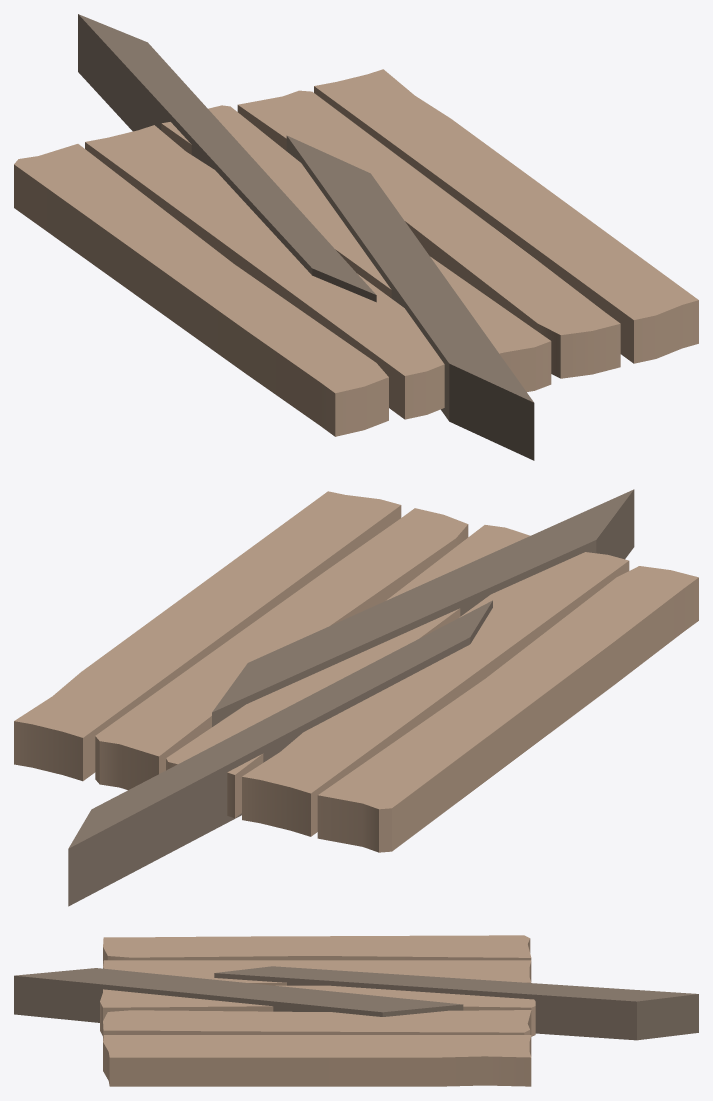
Rendered from BoatModel.fbx.
3 views of the same model, one above another, from view 1: azimuth 30°, elevation 25°; view 2: azimuth 150°, elevation 25°; view 3: azimuth 270°, elevation 25° (orthographic). The views are drawn at different scales.
Parts seen in each view (by area): view 1: pCube2, pCube6, pCube7, pCube4, pCube10, pCube9, pCube8; view 2: pCube2, pCube6, pCube4, pCube7, pCube9, pCube10, pCube8; view 3: pCube6, pCube9, pCube10, pCube2, pCube7, pCube4, pCube8.
Part boxes in pixels (x1,y1,x2,y2): pCube2: [14, 144, 388, 436]; pCube6: [314, 69, 698, 363]; pCube7: [237, 90, 620, 378]; pCube4: [85, 125, 444, 419]; pCube10: [286, 135, 534, 460]; pCube9: [78, 14, 376, 302]; pCube8: [161, 105, 551, 391]; pCube2: [317, 566, 698, 852]; pCube6: [14, 491, 401, 781]; pCube4: [242, 552, 629, 836]; pCube7: [95, 508, 468, 789]; pCube9: [68, 600, 492, 906]; pCube10: [212, 489, 634, 726]; pCube8: [166, 525, 530, 818]; pCube6: [103, 1035, 531, 1086]; pCube9: [214, 966, 698, 1040]; pCube10: [14, 968, 463, 1022]; pCube2: [103, 935, 531, 965]; pCube7: [103, 1010, 531, 1040]; pCube4: [103, 960, 531, 985]; pCube8: [100, 985, 535, 1036].
Bounding box in the file's own units: 1.35 × 0.2 × 3.2.
